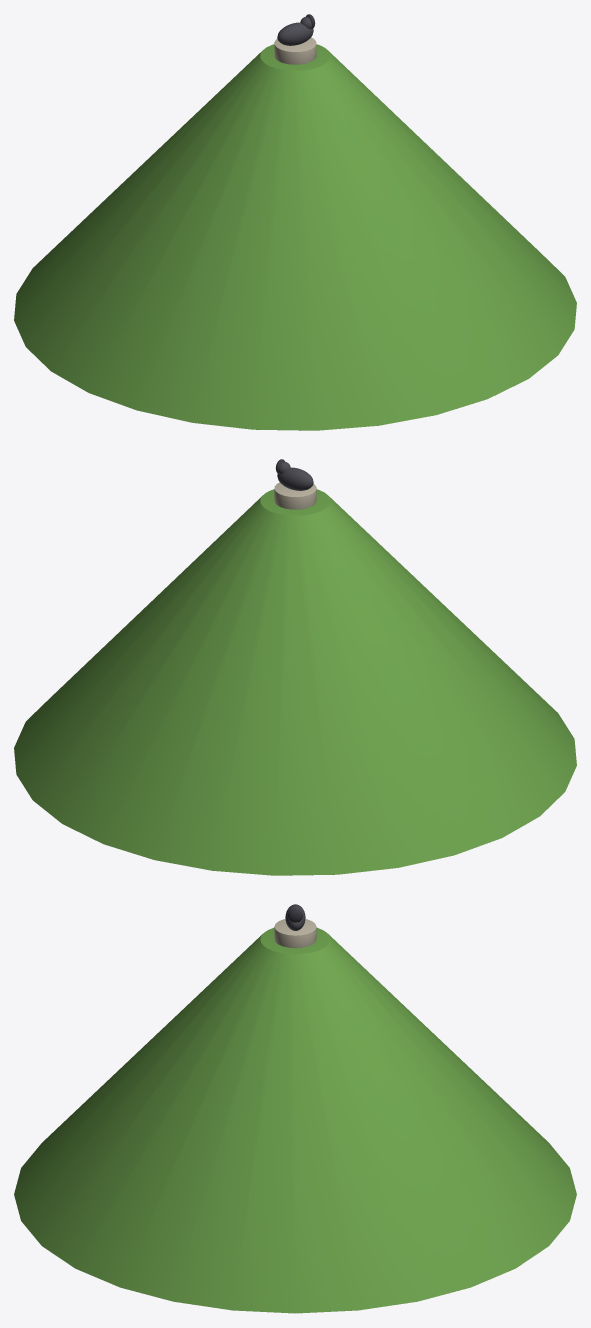
The model's file is marco_waterloo.glb.
3 views of the same model, one above another, from view 1: azimuth 30°, elevation 25°; view 2: azimuth 150°, elevation 25°; view 3: azimuth 270°, elevation 25° (orthographic).
Parts seen in each view (by area): view 1: marco_waterloo; view 2: marco_waterloo; view 3: marco_waterloo.
Part boxes in pixels (left/top/right/bottom): marco_waterloo: left=14, top=14, right=576, bottom=430; marco_waterloo: left=14, top=459, right=576, bottom=875; marco_waterloo: left=14, top=904, right=576, bottom=1313.
Size of the model in its own units: 79.98 by 45.88 by 79.98.
